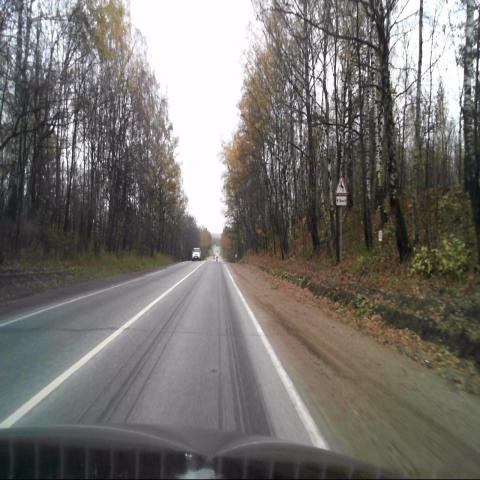1_27: (335, 174, 347, 195)
